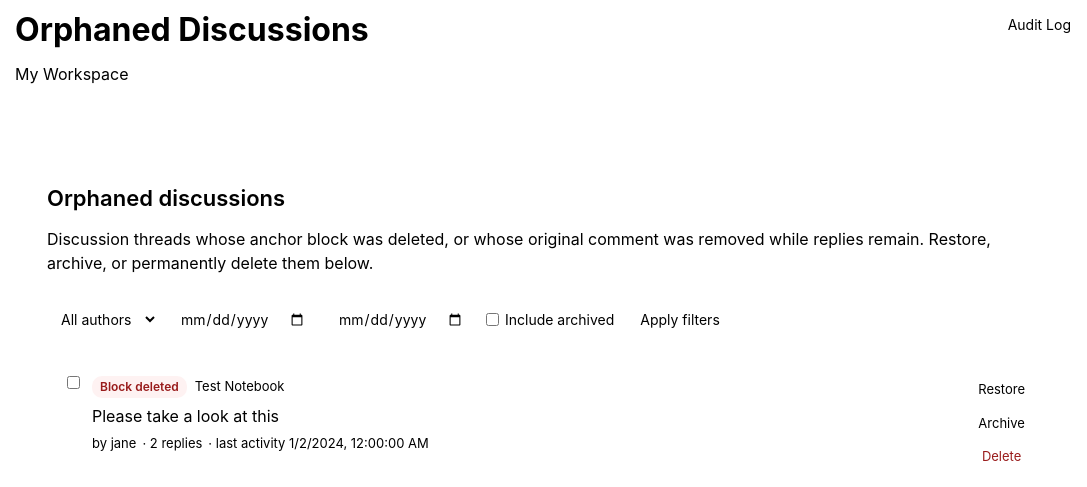
Test: OrphanedDiscussionsPanel › permanently deletes a thread after confirmation
Click the button "Delete" at (1002, 457), box [968,443,1035,470]
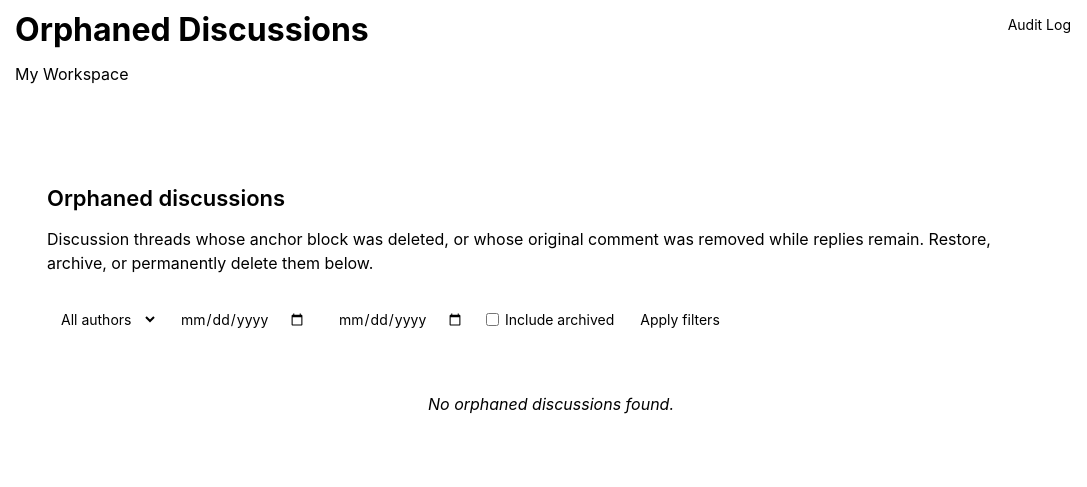
expect the text "No orphaned discussions found" is shown: met, box [428,394,674,414]
